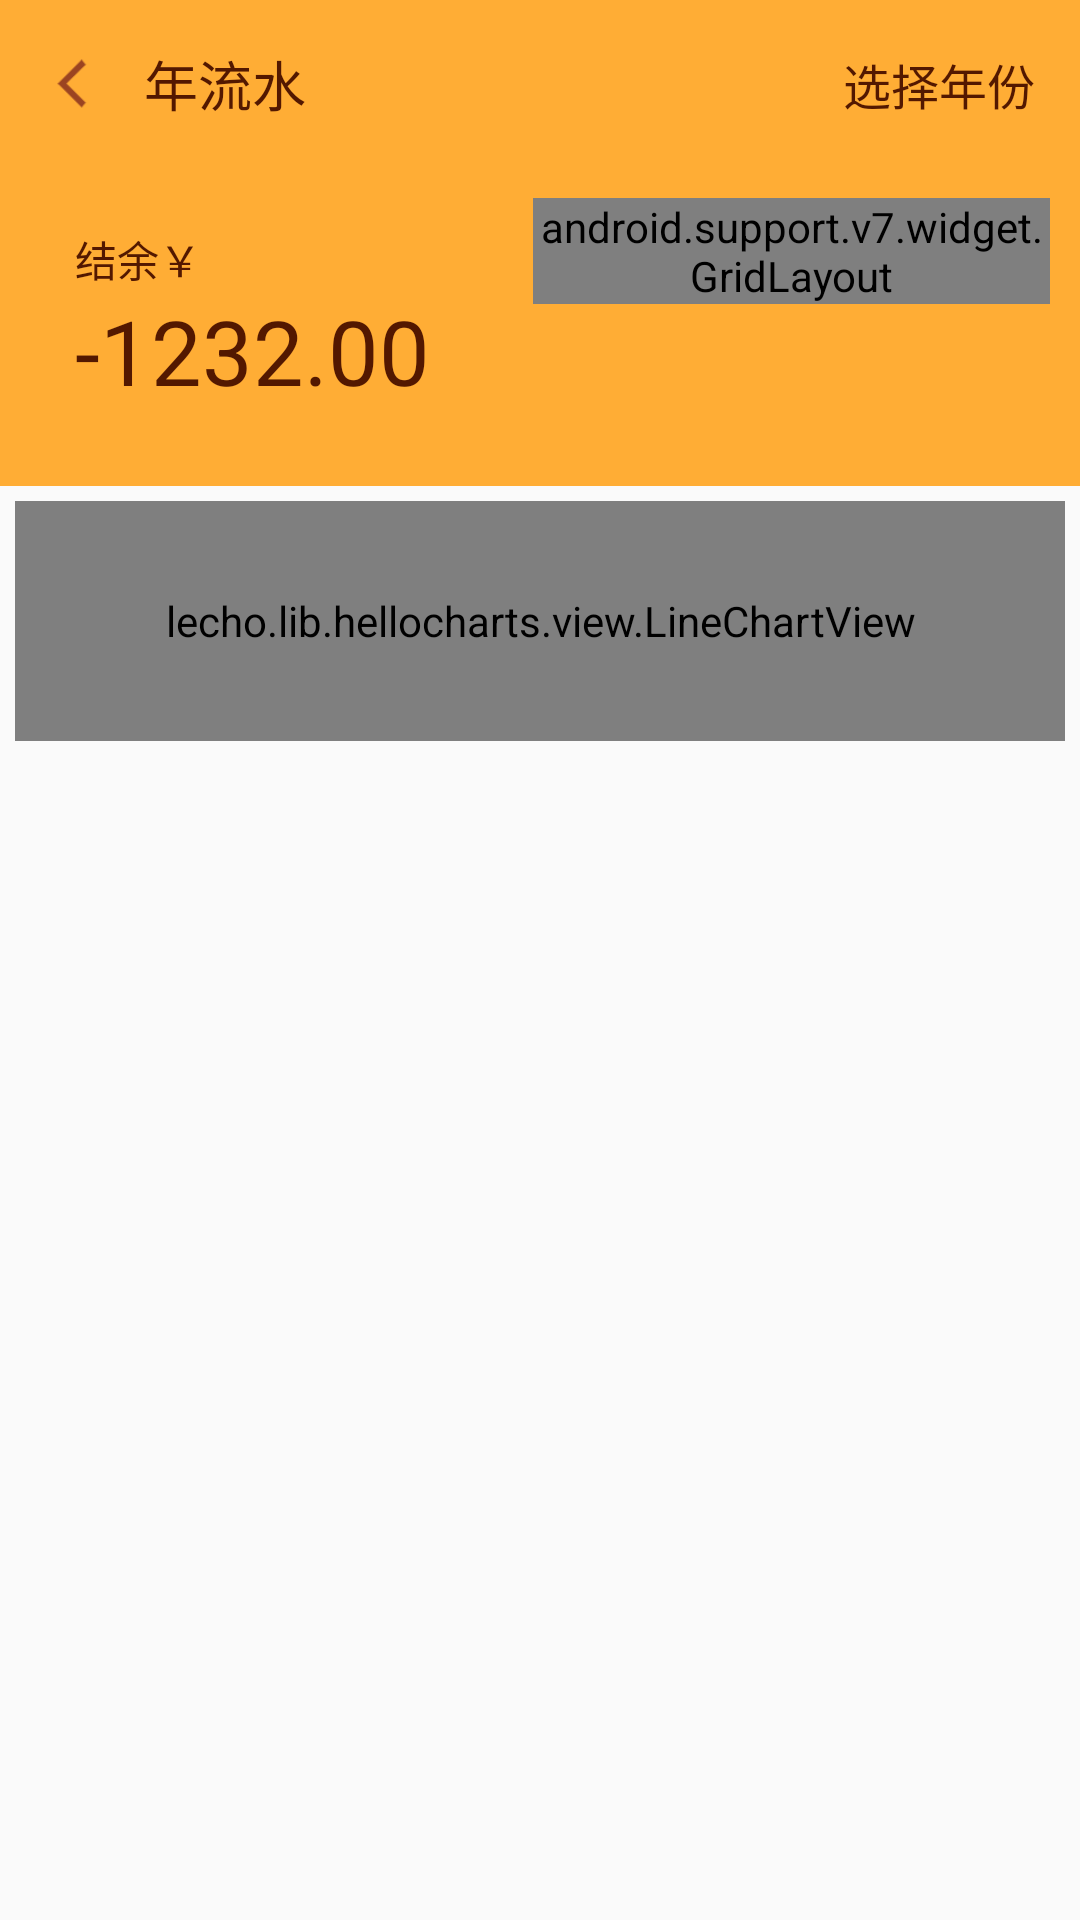

Icon click points for this 1080 × 1920 phone screenshot, format (x,y):
back brown: (71,83)
